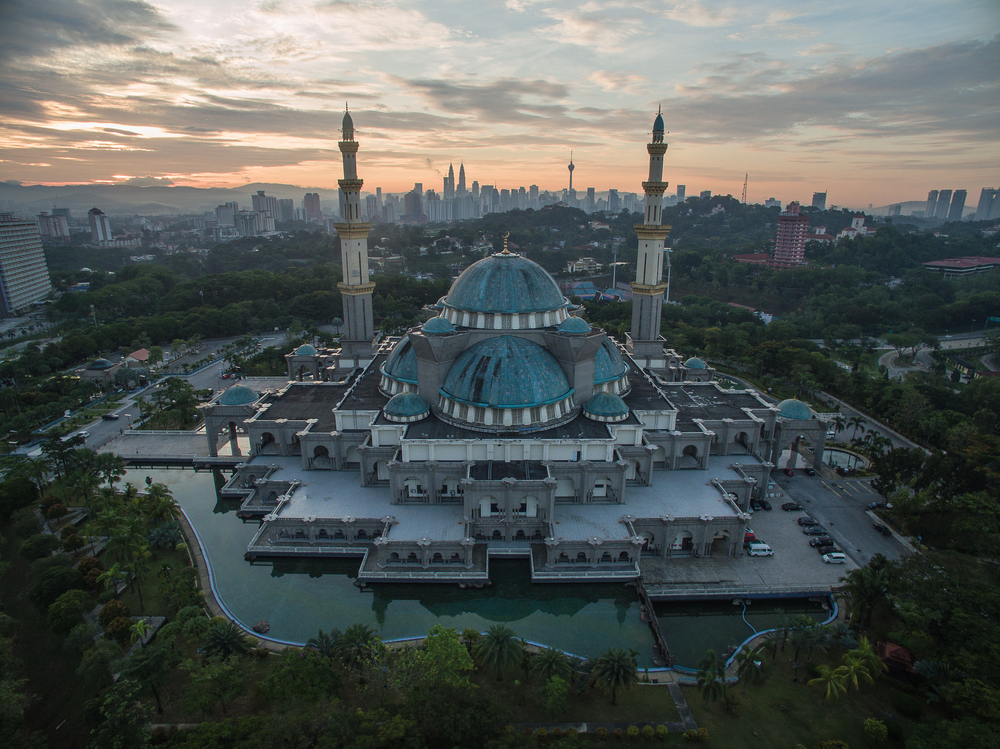Mosque: (218, 81, 746, 552)
